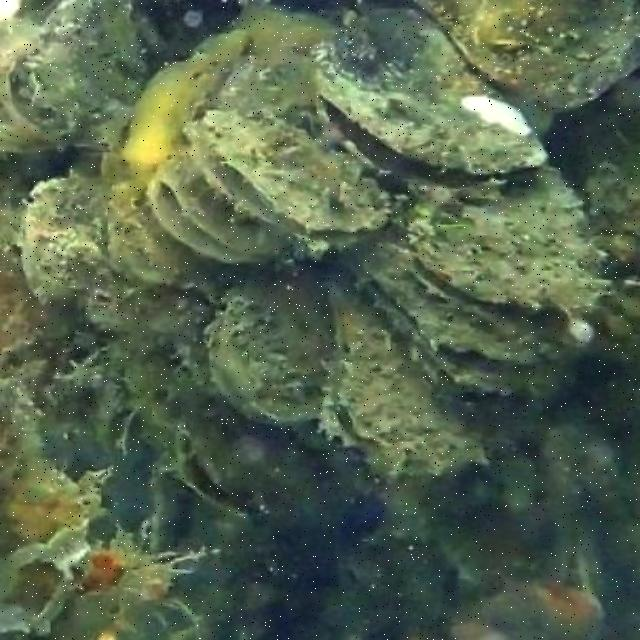Oyster-Closed: (419, 0, 638, 108), (215, 268, 332, 428), (24, 182, 115, 312)
Oyster-Open: (316, 12, 551, 199), (340, 237, 568, 400), (321, 276, 489, 475), (193, 106, 392, 253), (415, 170, 603, 314), (152, 148, 289, 264), (176, 410, 308, 518)
